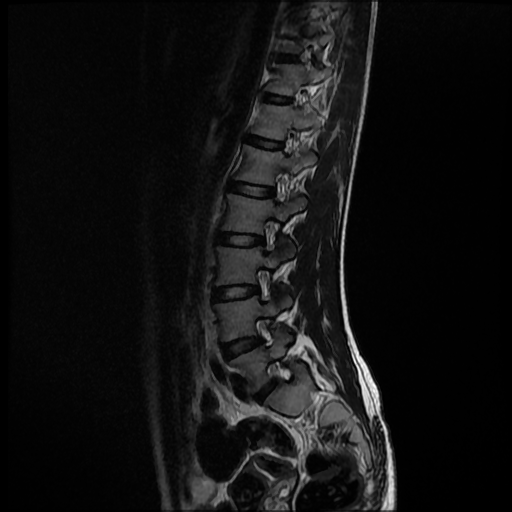LFS0: (251, 209, 286, 257), (247, 258, 281, 307), (248, 309, 285, 354), (260, 163, 295, 210), (262, 353, 300, 393)
